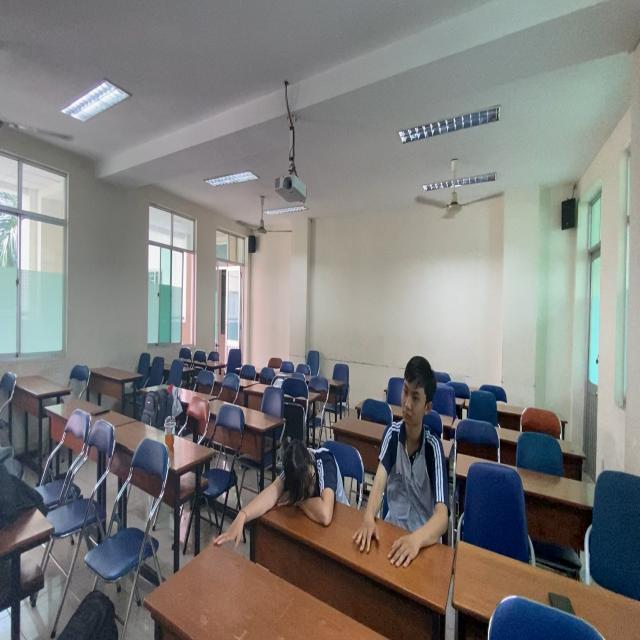sleep: (254, 420, 351, 536)
